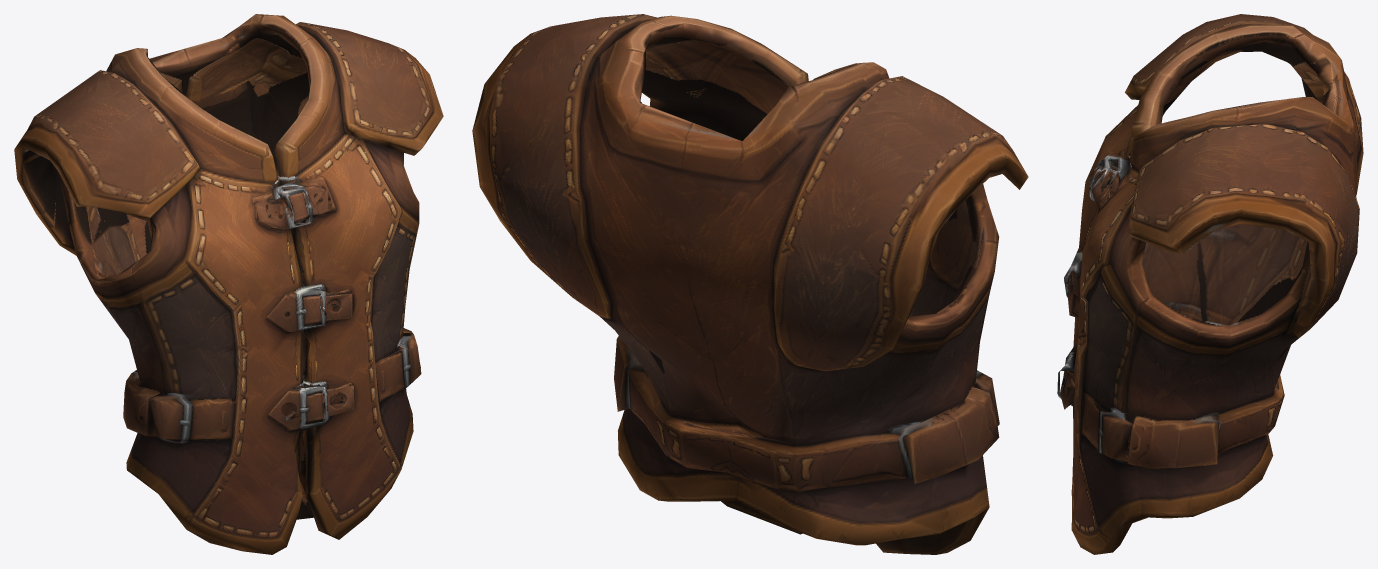
Rendered from Item_ArmorLeather.fbx.
The picture shows the model from 3 angles, left to right: view 1: azimuth 30°, elevation 25°; view 2: azimuth 150°, elevation 25°; view 3: azimuth 270°, elevation 25°; orthographic projection. The views are drawn at different scales.
Visible parts, largest first — view 1: texture_mapping; view 2: texture_mapping; view 3: texture_mapping.
Boxes of the visible parts, <box> form: texture_mapping: <box>14,14,443,554</box>; texture_mapping: <box>472,14,1028,554</box>; texture_mapping: <box>1057,14,1363,554</box>.
Bounding box in the file's own units: 0.8763 × 0.5946 × 1.
Materials: 1 (1 with a texture image).
